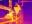Hotspot: (0, 5, 13, 22), (14, 5, 21, 13)
